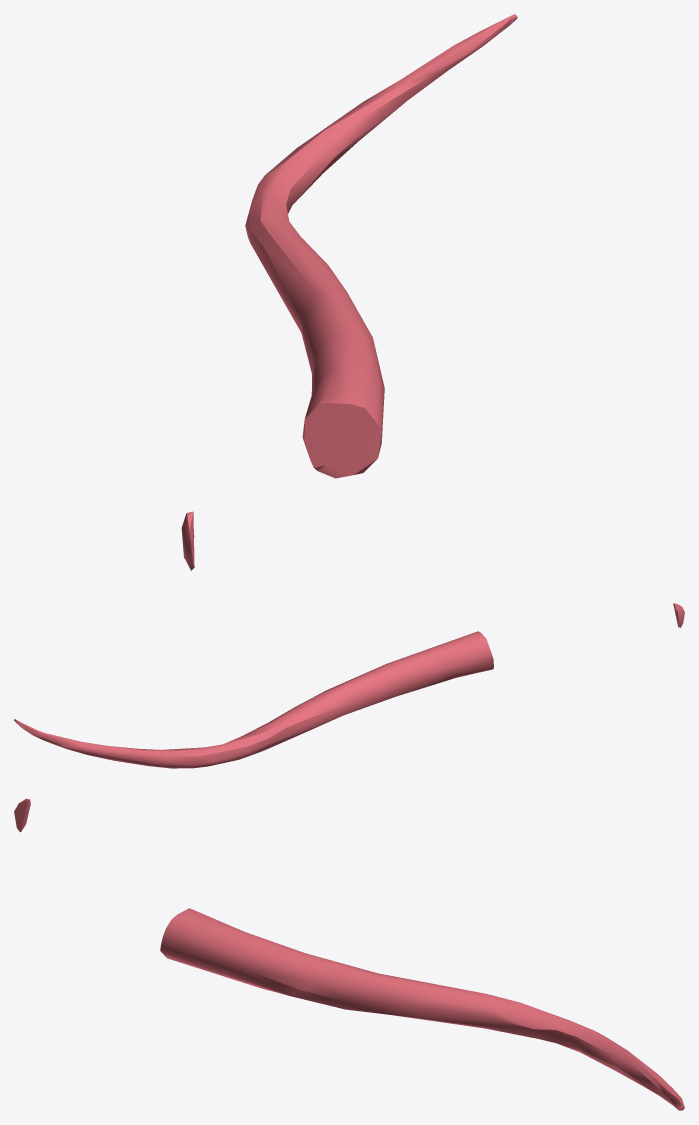
The model's file is fma70490_fj3473.glb.
3 renders of one model, top to bottom at view 1: azimuth 30°, elevation 25°; view 2: azimuth 150°, elevation 25°; view 3: azimuth 270°, elevation 25°, orthographic. The views are drawn at different scales.
Parts seen in each view (by area): view 1: FMA70490_FJ3473; view 2: FMA70490_FJ3473; view 3: FMA70490_FJ3473.
Part boxes in pixels (bbox=[...]): FMA70490_FJ3473: bbox=[181, 14, 517, 570]; FMA70490_FJ3473: bbox=[14, 603, 684, 768]; FMA70490_FJ3473: bbox=[14, 798, 684, 1110].
Bounding box in the file's own units: 0.0414 × 0.00684 × 0.044.
